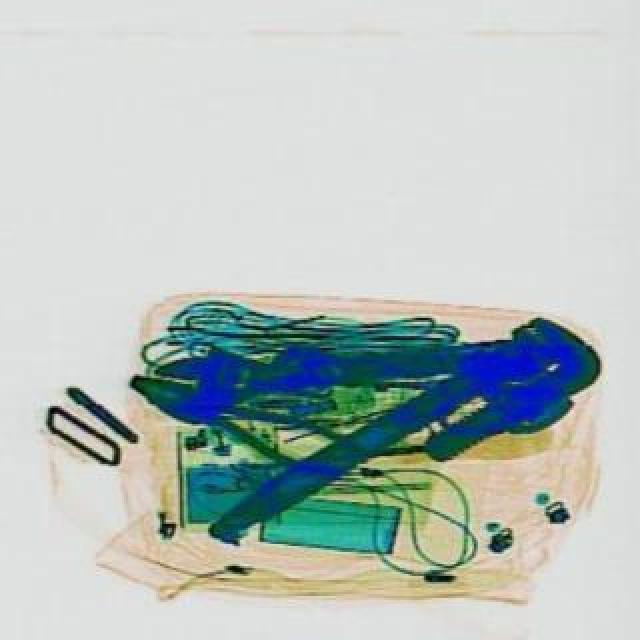wrench: (124, 356, 384, 496)
